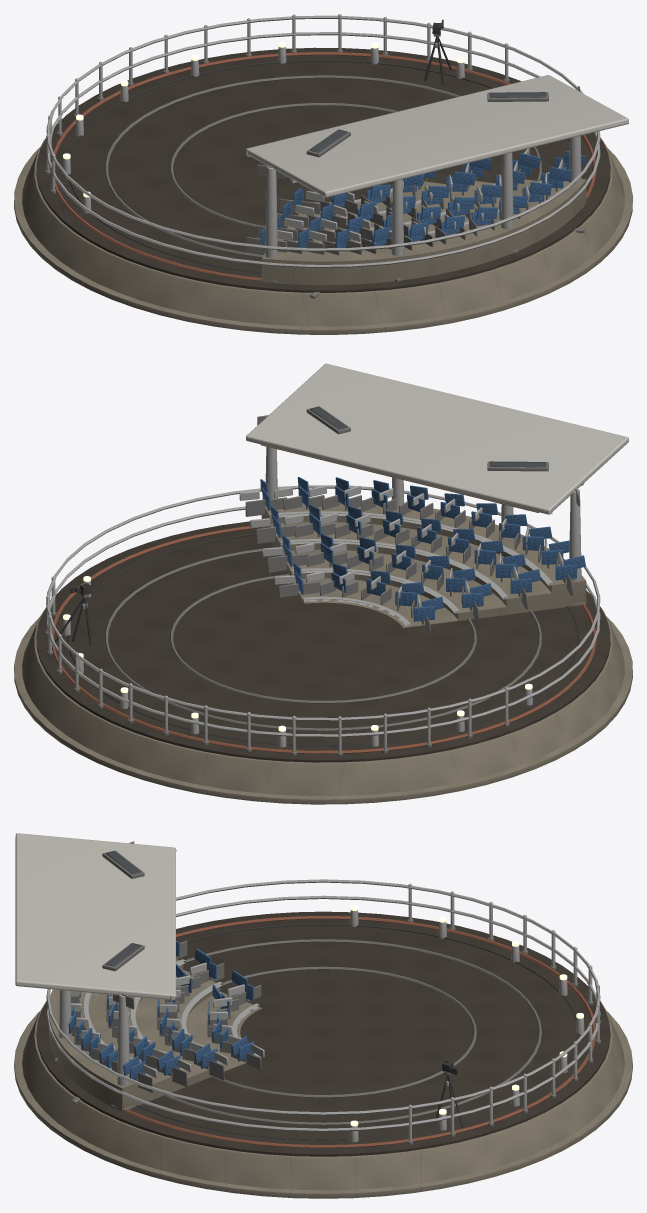
File: watch_deck.glb
3 views of the same model, one above another, from view 1: azimuth 30°, elevation 25°; view 2: azimuth 150°, elevation 25°; view 3: azimuth 270°, elevation 25° (orthographic).
Parts seen in each view (by area): view 1: plate, drum, canopy_roof, tiers, plinth, rail_1.16, rail_0.66, safety_band, inlay_r6, drain, inlay_r4.2, column_3.86159 (+5 smaller); view 2: plate, canopy_roof, drum, tiers, plinth, rail_1.16, rail_0.66, safety_band, inlay_r6, inlay_r4.2, drain, footrail_6.6 (+3 smaller); view 3: plate, canopy_roof, drum, tiers, plinth, rail_1.16, rail_0.66, safety_band, inlay_r6, drain, inlay_r4.2, column_2.42159 (+3 smaller).
Part boxes in pixels (x1=…): plate: x1=36, y1=47, x2=610, y2=292; drum: x1=22, y1=137, x2=624, y2=326; canopy_roof: x1=246, y1=75, x2=628, y2=197; tiers: x1=261, y1=179, x2=586, y2=285; plinth: x1=14, y1=147, x2=632, y2=334; rail_1.16: x1=46, y1=15, x2=600, y2=251; rail_0.66: x1=47, y1=32, x2=600, y2=267; safety_band: x1=50, y1=52, x2=596, y2=280; inlay_r6: x1=105, y1=75, x2=541, y2=257; drain: x1=68, y1=60, x2=569, y2=273; inlay_r4.2: x1=170, y1=103, x2=398, y2=226; column_3.86159: x1=265, y1=165, x2=277, y2=258; plate: x1=36, y1=521, x2=610, y2=762; canopy_roof: x1=246, y1=363, x2=628, y2=514; drum: x1=22, y1=608, x2=624, y2=795; tiers: x1=261, y1=500, x2=586, y2=628; plinth: x1=14, y1=616, x2=632, y2=804; rail_1.16: x1=46, y1=485, x2=600, y2=721; rail_0.66: x1=46, y1=506, x2=600, y2=737; safety_band: x1=52, y1=526, x2=596, y2=753; inlay_r6: x1=105, y1=547, x2=541, y2=730; inlay_r4.2: x1=170, y1=574, x2=476, y2=703; drain: x1=67, y1=533, x2=579, y2=746; footrail_6.6: x1=269, y1=511, x2=552, y2=585; plate: x1=36, y1=911, x2=610, y2=1156; canopy_roof: x1=15, y1=833, x2=175, y2=1000; drum: x1=22, y1=1000, x2=624, y2=1190; tiers: x1=48, y1=959, x2=262, y2=1111; plinth: x1=14, y1=1011, x2=632, y2=1198; rail_1.16: x1=46, y1=879, x2=600, y2=1115; rail_0.66: x1=46, y1=895, x2=600, y2=1131; safety_band: x1=125, y1=916, x2=596, y2=1147; inlay_r6: x1=164, y1=939, x2=541, y2=1124; drain: x1=136, y1=924, x2=579, y2=1140; inlay_r4.2: x1=211, y1=966, x2=476, y2=1097; column_2.42159: x1=117, y1=995, x2=129, y2=1085.
Size of the model in its own units: 17.12 by 4.92 by 17.12.
Materials: 11 (3 with a texture image).
